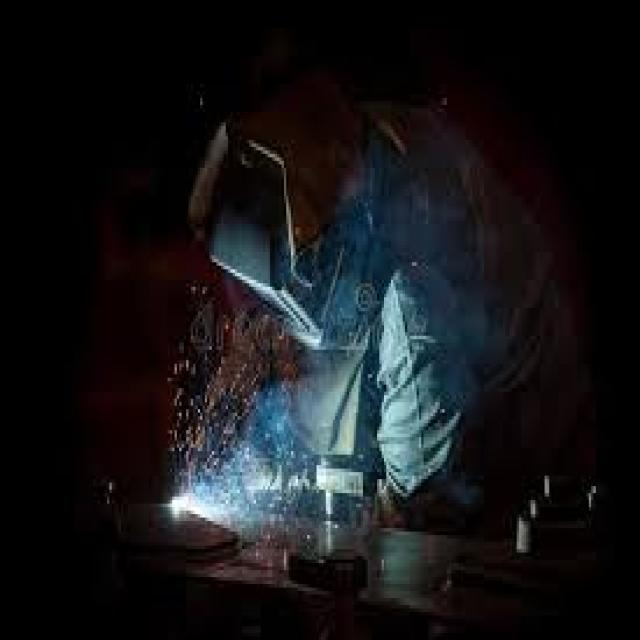welding: (172, 493, 187, 523)
